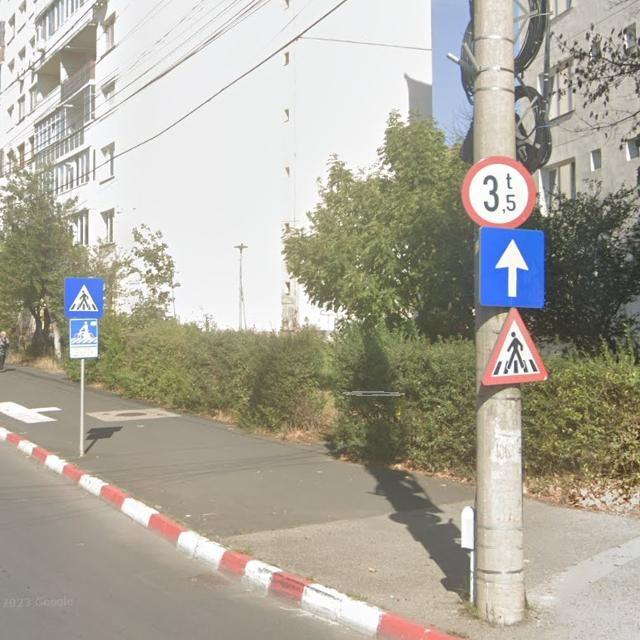info_crosswalk: (64, 277, 104, 319)
warn_crosswalk: (481, 307, 549, 384)
